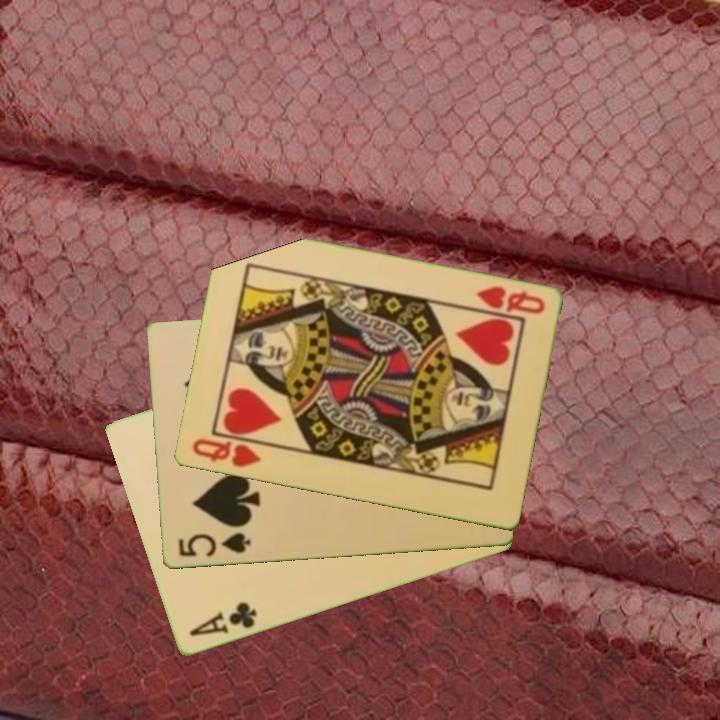5s: (174, 529, 253, 560)
Ac: (185, 599, 260, 640)
Qh: (188, 435, 264, 471), (472, 283, 547, 318)
